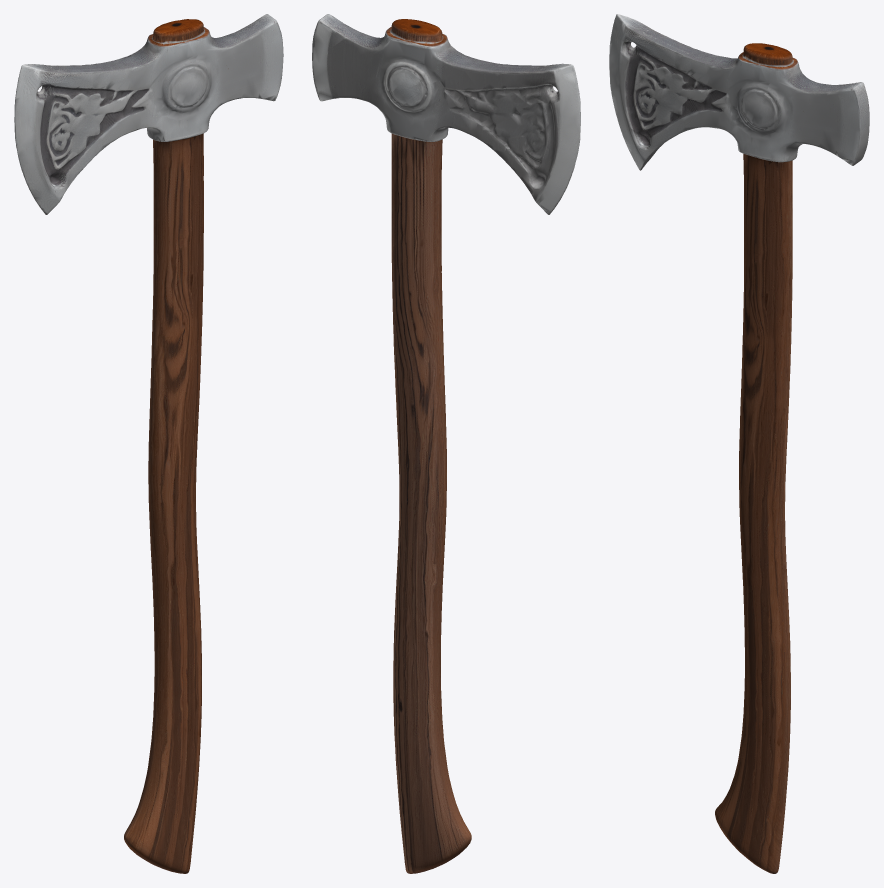
Rendered from Common.glb.
3 renders of one model, left to right at view 1: azimuth 30°, elevation 25°; view 2: azimuth 150°, elevation 25°; view 3: azimuth 330°, elevation 25°, orthographic. The views are drawn at different scales.
Visible parts, largest first — view 1: Mesh_0.002; view 2: Mesh_0.002; view 3: Mesh_0.002.
Boxes of the visible parts, x1,y1,x2,y2 form: Mesh_0.002: (14,14,283,873); Mesh_0.002: (312,14,580,873); Mesh_0.002: (609,14,869,873).
Size of the model in its own units: 0.619 by 1.9 by 0.0923.
Materials: 1 (1 with a texture image).
